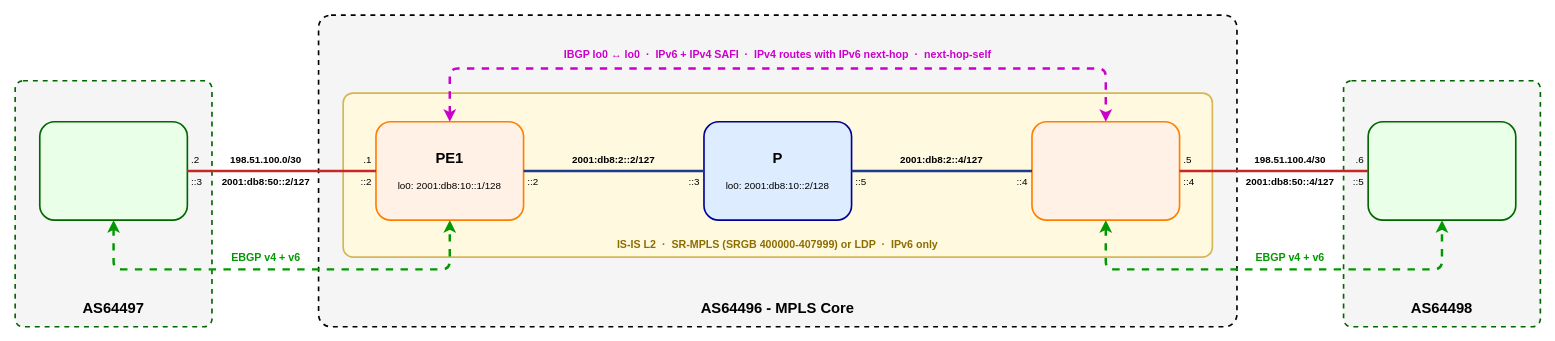
Some shapes in this 1555 by 341 pixel diagram are drawn without their labels. The shapes that lost their labels are listed below. From the top down, each one's box as (x1, y1, x2, y2) in pixels, then its label:
(39, 121, 188, 221): CE1 FRR lo: 203.0.113.1/32 lo: 2001:db8:187::2/128
(1031, 121, 1180, 221): PE2 lo0: 2001:db8:10::3/128
(1367, 121, 1516, 221): CE2 FRR lo: 203.0.113.2/32 lo: 2001:db8:187::3/128
